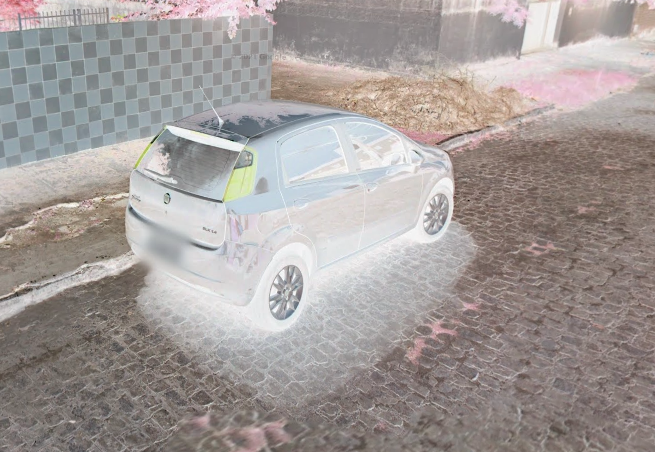car: (122, 82, 457, 333)
